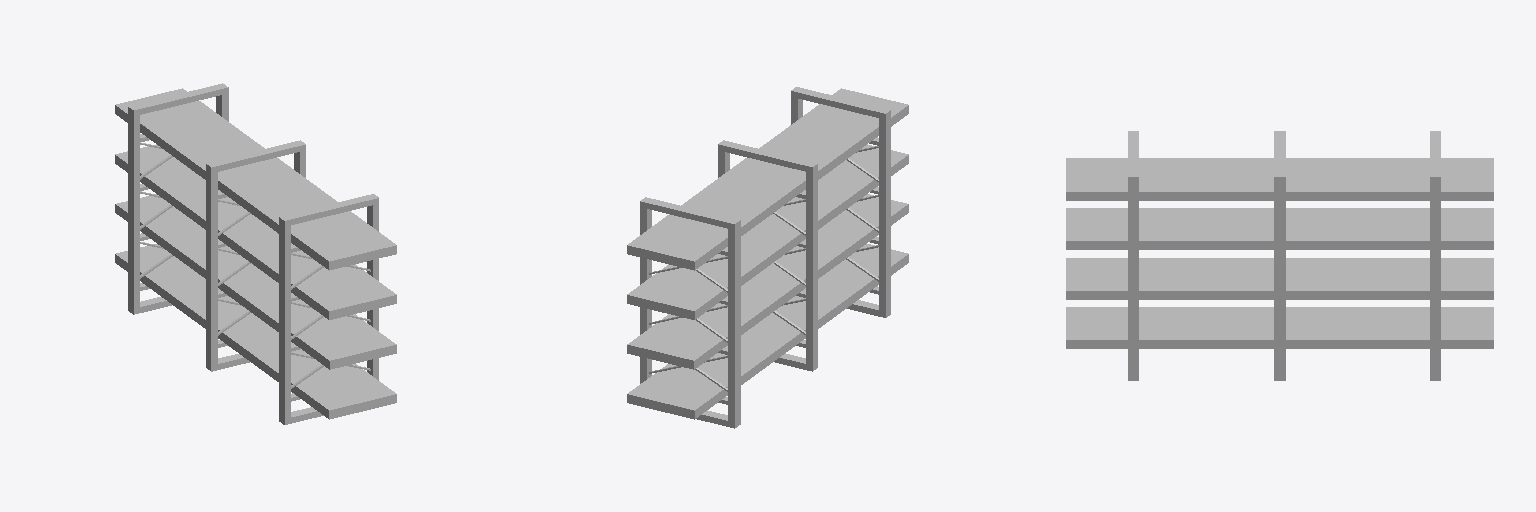
File: szekreny.obj
The picture shows the model from 3 angles: view 1: azimuth 30°, elevation 25°; view 2: azimuth 150°, elevation 25°; view 3: azimuth 270°, elevation 25°; orthographic projection.
Visible parts, largest first — view 1: Cube.004, Cube.001, Cube.003, Cube, Cube.005, Cube.002, Cube.006; view 2: Cube.004, Cube.001, Cube.003, Cube, Cube.002, Cube.005, Cube.006; view 3: Cube.004, Cube, Cube.001, Cube.003, Cube.006, Cube.005, Cube.002.
Boxes of the visible parts, x1,y1,x2,y2 form: Cube.004: [115, 88, 396, 270]; Cube.001: [115, 244, 396, 419]; Cube.003: [115, 144, 396, 319]; Cube: [115, 194, 396, 369]; Cube.005: [279, 194, 378, 424]; Cube.002: [128, 83, 228, 314]; Cube.006: [206, 140, 305, 371]; Cube.004: [627, 88, 908, 270]; Cube.001: [627, 244, 908, 419]; Cube.003: [627, 144, 908, 319]; Cube: [627, 194, 908, 369]; Cube.002: [640, 197, 740, 428]; Cube.005: [791, 87, 890, 317]; Cube.006: [718, 140, 817, 371]; Cube.004: [1066, 158, 1493, 200]; Cube: [1066, 258, 1493, 299]; Cube.001: [1066, 307, 1493, 348]; Cube.003: [1066, 208, 1493, 249]; Cube.006: [1274, 131, 1285, 380]; Cube.005: [1128, 131, 1138, 380]; Cube.002: [1430, 131, 1440, 380].
Size of the model in its own units: 1.4 by 2.88 by 5.48.